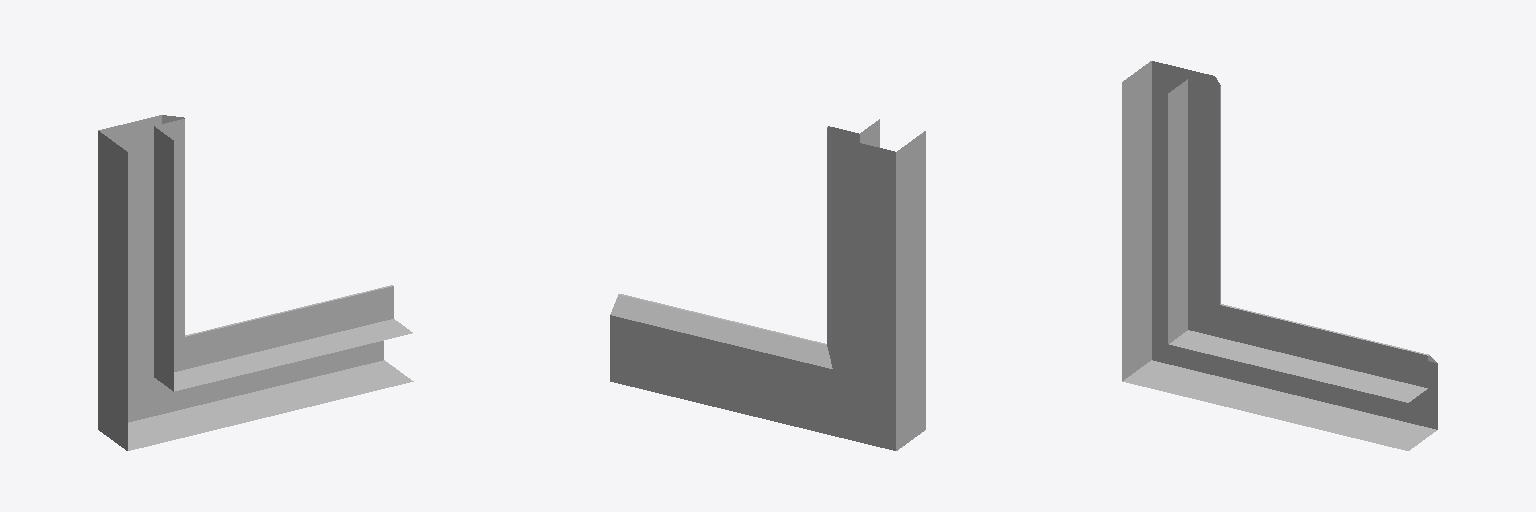
Rendered from original-165.obj.
The picture shows the model from 3 angles: view 1: azimuth 30°, elevation 25°; view 2: azimuth 150°, elevation 25°; view 3: azimuth 330°, elevation 25°; orthographic projection.
Parts seen in each view (by area): view 1: #ID982; view 2: #ID982; view 3: #ID982.
Boxes of the visible parts, x1,y1,x2,y2 form: #ID982: [98, 115, 413, 450]; #ID982: [610, 119, 925, 450]; #ID982: [1122, 61, 1437, 450].
Bounding box in the file's own units: 0.1274 × 0.1274 × 0.0226.